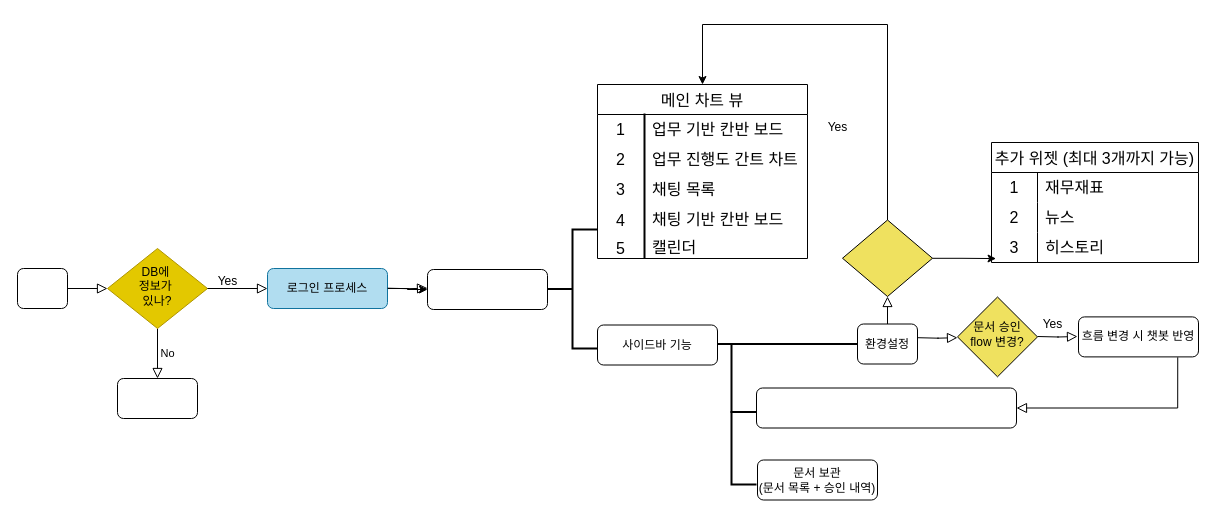
This 1216x518 diagram has some shape labels left out. Here are the shapes that lost their labels. From the top down, the centre of each, then its label:
At pixel 887 257: "차트 위젯 변경?".
At pixel 42 288: "시작".
At pixel 487 289: "메인 페이지 진입".
At pixel 157 398: "회원가입".
At pixel 886 407: "가이드 챗봇 (단계 안내, 문서 작성, 승인 알림, 상태 확인, QnA)".
